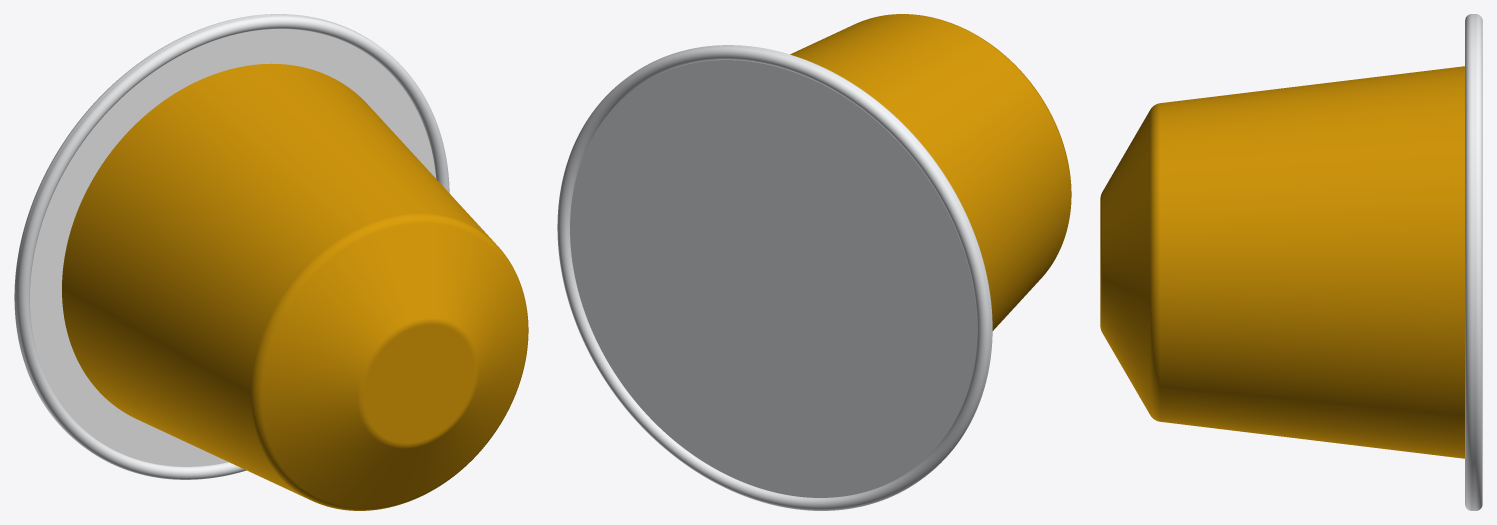
File: Orange Capsule.glb
3 views of the same model, side by side, from view 1: azimuth 30°, elevation 25°; view 2: azimuth 150°, elevation 25°; view 3: azimuth 270°, elevation 25° (orthographic).
Parts seen in each view (by area): view 1: Капсула; view 2: Капсула; view 3: Капсула.
Boxes of the visible parts, box(x1,y1,x2,y2) form: Капсула: box(14, 14, 528, 510); Капсула: box(557, 14, 1071, 510); Капсула: box(1100, 14, 1482, 510).
Size of the model in its own units: 0.037 by 0.037 by 0.0284.
